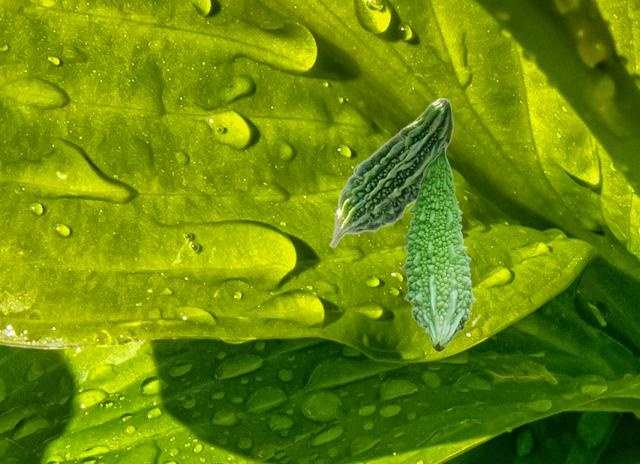ampalaya: (328, 97, 455, 248), (399, 141, 476, 352)
